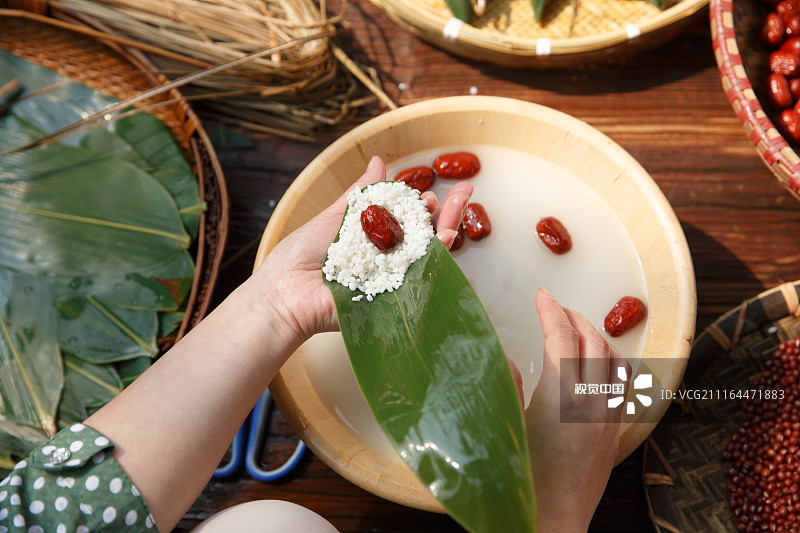no-phone: (241, 143, 478, 341), (494, 277, 637, 533)
